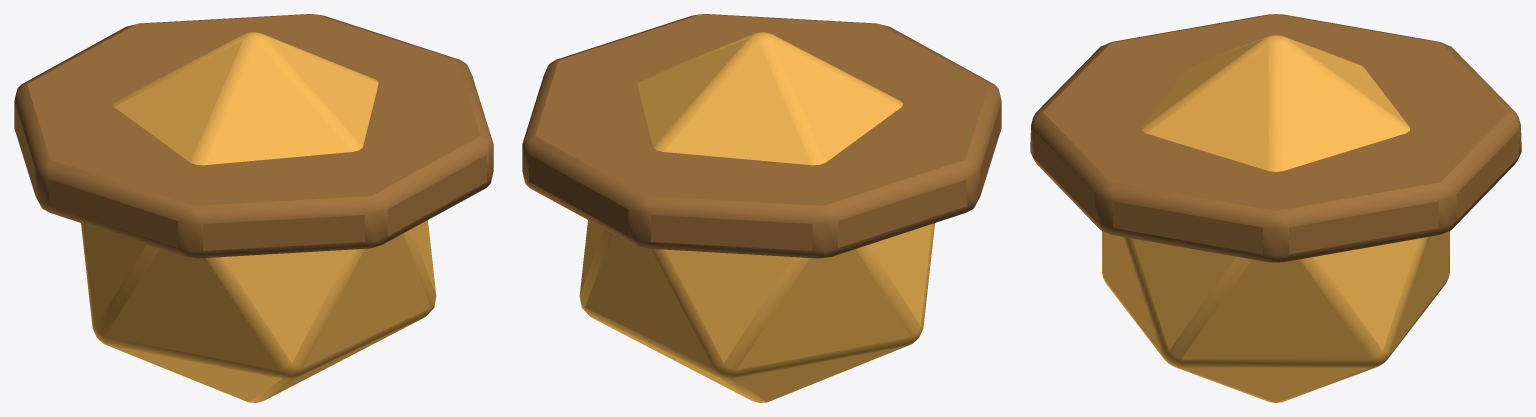
Rendered from runner_enemy.glb.
3 renders of one model, left to right at view 1: azimuth 30°, elevation 25°; view 2: azimuth 150°, elevation 25°; view 3: azimuth 270°, elevation 25°, orthographic.
Visible parts, largest first — view 1: Armor, Body; view 2: Armor, Body; view 3: Armor, Body.
Part boxes in pixels (x1=…): Armor: x1=14, y1=14, x2=493, y2=258; Body: x1=81, y1=32, x2=436, y2=402; Armor: x1=522, y1=14, x2=1001, y2=258; Body: x1=579, y1=32, x2=934, y2=402; Armor: x1=1030, y1=14, x2=1521, y2=262; Body: x1=1102, y1=35, x2=1449, y2=402.
Bounding box in the file's own units: 1.23 × 1.01 × 1.24.
